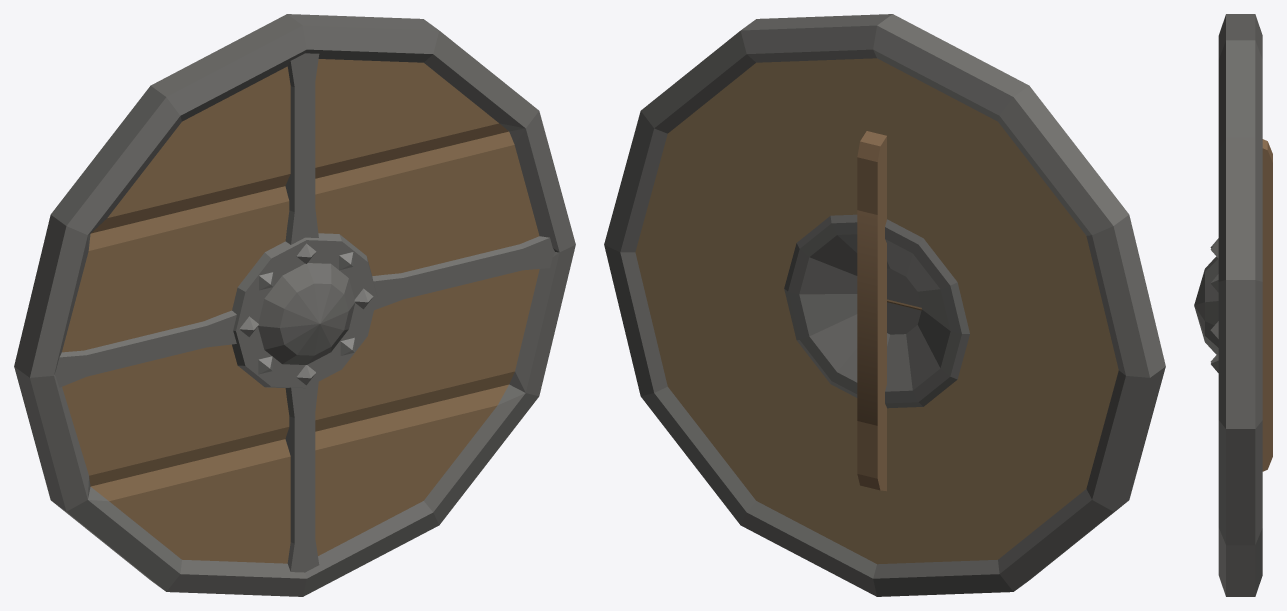
File: SM_pwe_slavic_shield_02c.fbx
3 views of the same model, side by side, from view 1: azimuth 30°, elevation 25°; view 2: azimuth 150°, elevation 25°; view 3: azimuth 270°, elevation 25° (orthographic). The views are drawn at different scales.
Visible parts, largest first — view 1: SM_pwe_slavic_shield_02c; view 2: SM_pwe_slavic_shield_02c; view 3: SM_pwe_slavic_shield_02c.
Part boxes in pixels (left/top/right/bottom): SM_pwe_slavic_shield_02c: left=14, top=14, right=575, bottom=596; SM_pwe_slavic_shield_02c: left=604, top=14, right=1165, bottom=596; SM_pwe_slavic_shield_02c: left=1194, top=14, right=1272, bottom=596.
Bounding box in the file's own units: 70.52 × 70.52 × 9.5.
